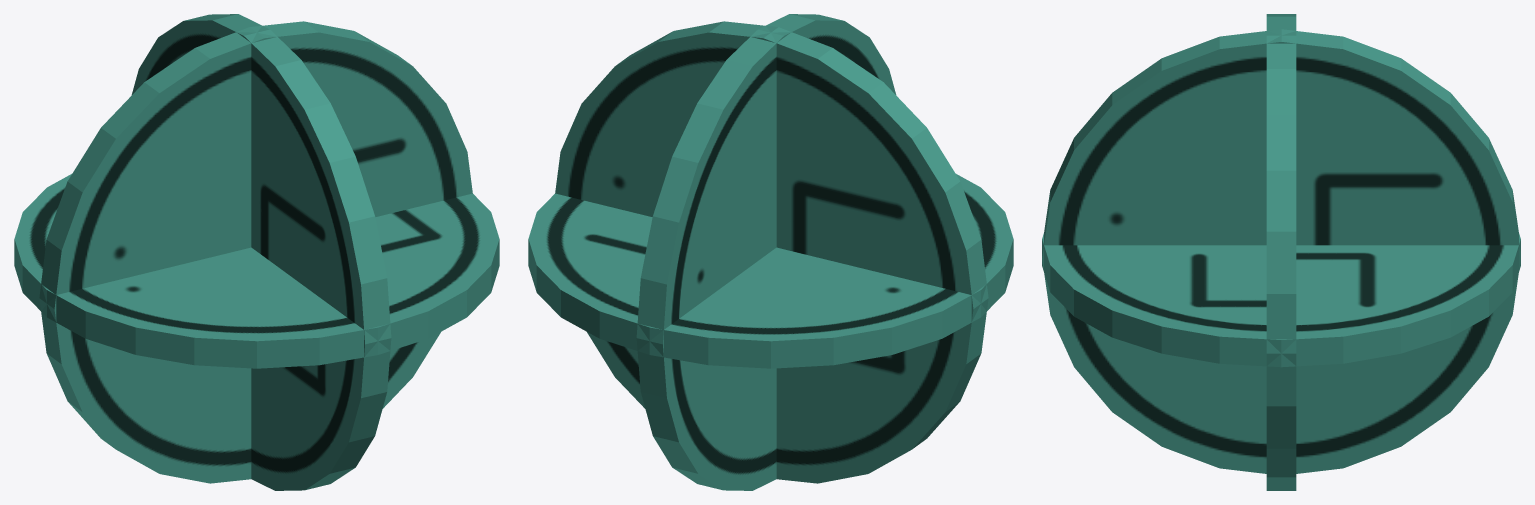
Rendered from clock15.obj.
3 renders of one model, left to right at view 1: azimuth 30°, elevation 25°; view 2: azimuth 150°, elevation 25°; view 3: azimuth 270°, elevation 25°, orthographic.
Parts seen in each view (by area): view 1: entity0_brush0, entity0_brush1, entity0_brush2; view 2: entity0_brush0, entity0_brush1, entity0_brush2; view 3: entity0_brush1, entity0_brush2, entity0_brush0.
Part boxes in pixels (x1,y1,x2,y2): entity0_brush0: [39, 21, 472, 483]; entity0_brush1: [131, 14, 391, 490]; entity0_brush2: [14, 174, 499, 368]; entity0_brush0: [555, 21, 988, 483]; entity0_brush1: [636, 14, 896, 490]; entity0_brush2: [528, 174, 1013, 368]; entity0_brush1: [1042, 29, 1520, 473]; entity0_brush2: [1042, 233, 1520, 367]; entity0_brush0: [1266, 14, 1296, 490].
Bounding box in the file's own units: 19.2 × 19.2 × 19.2.
